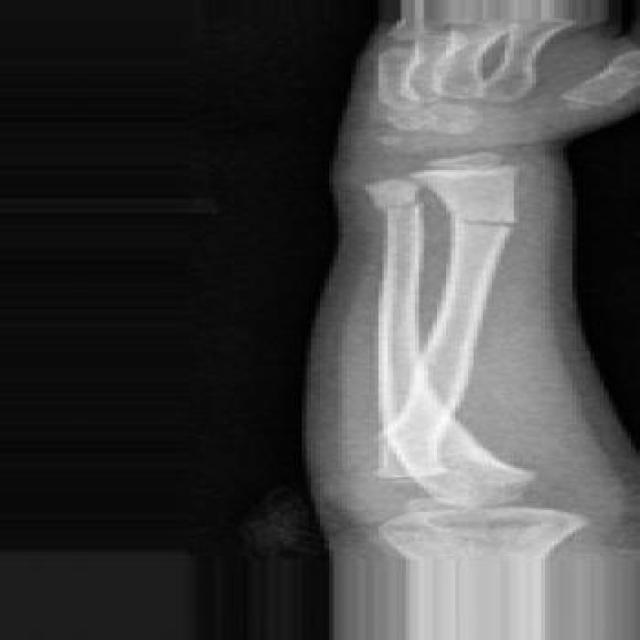Fracture: (447, 213, 539, 235), (368, 198, 437, 213)
